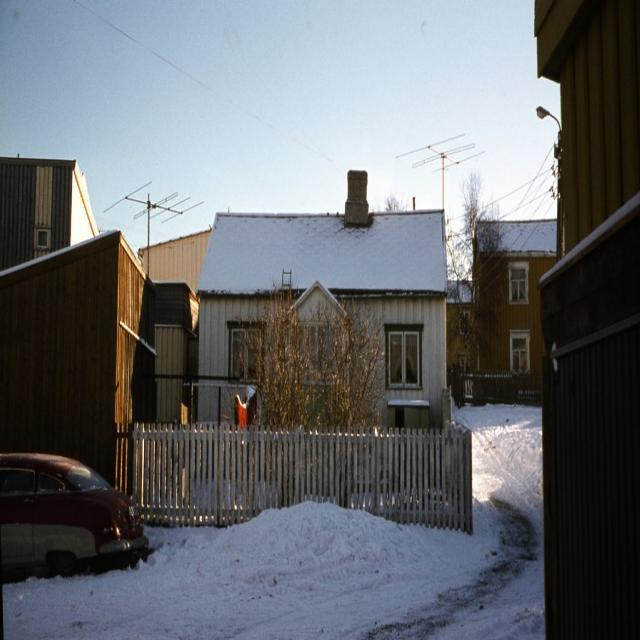other: (0, 452, 152, 577)
